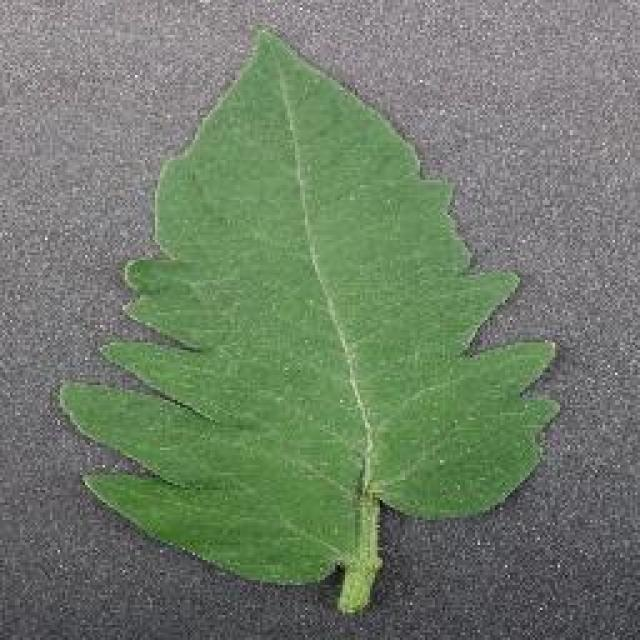healthy: (59, 20, 570, 610)
